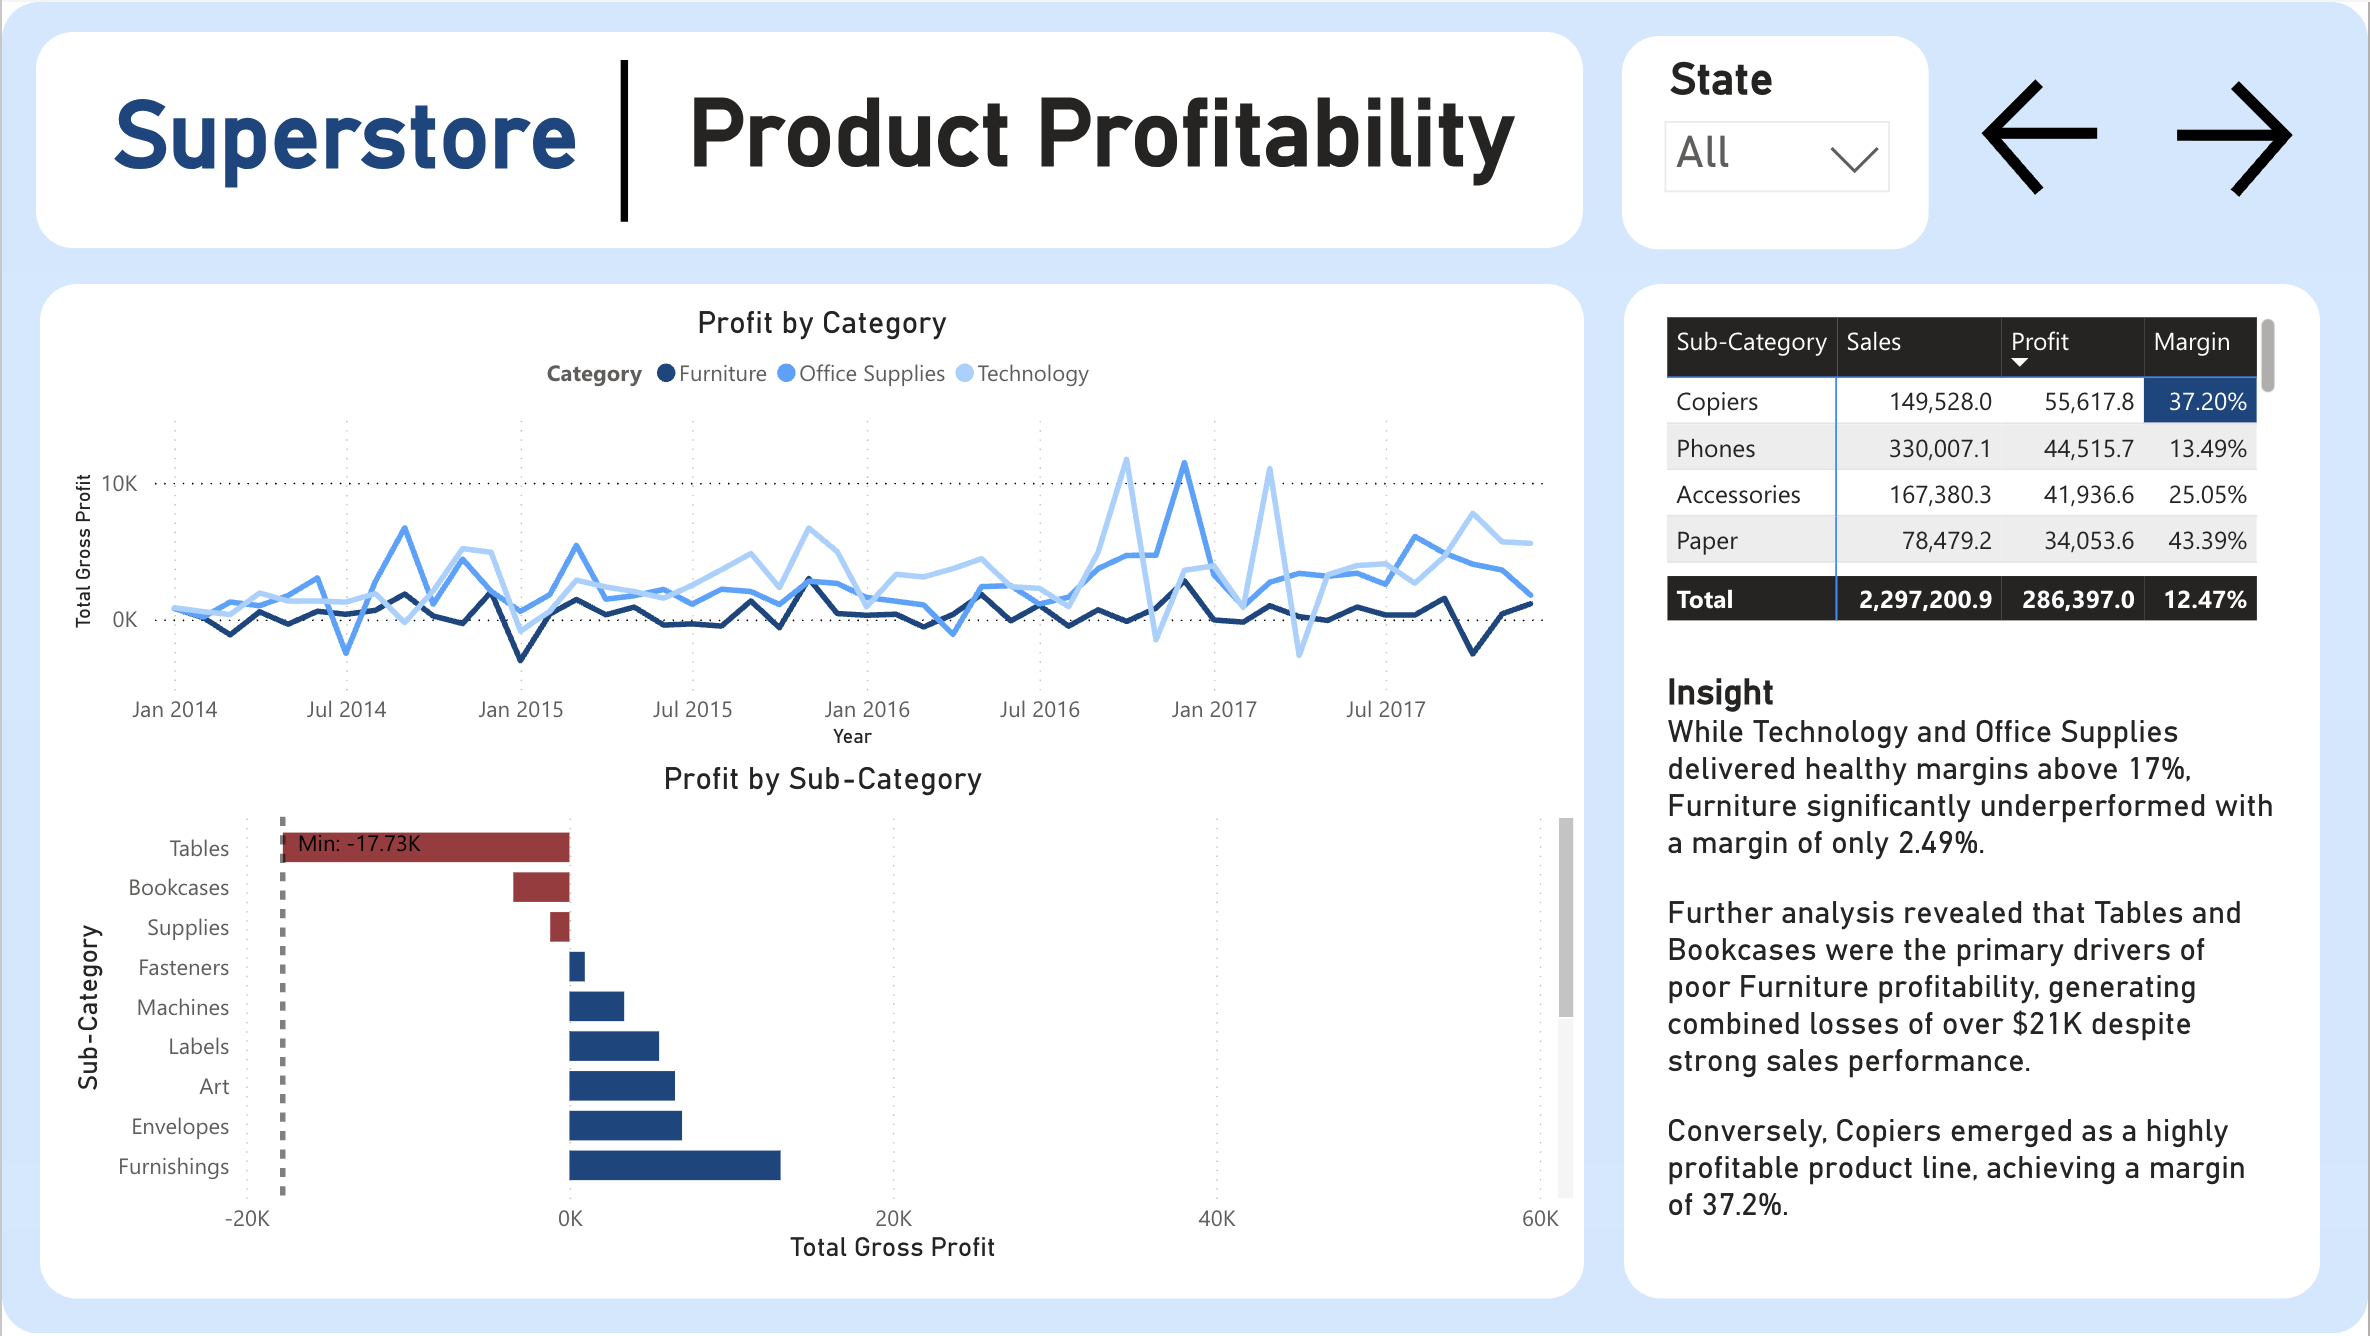

The dashboard page shown, as its layout file describes it:
{"tool":"powerbi","page":{"name":"Product Profitability","canvas":[1280,720],"ordinal":1},"visuals":[{"type":"shape","box":[0,0,1280,720.4],"z":0},{"type":"shape","box":[18.8,16.7,836.9,116.9],"z":1000},{"type":"textbox","box":[36.2,43,299,86.1],"z":2000},{"type":"shape","box":[283.8,31.3,106.4,87.7],"z":3000},{"type":"shape","box":[20,152.2,835.3,548.9],"z":4000},{"type":"actionButton","box":[1169,36.2,83.8,74.8],"z":5000},{"type":"textbox","box":[352.6,42.1,484.8,86.1],"z":6000},{"type":"shape","box":[876.6,17.9,165.9,115.5],"z":7000},{"type":"slicer","fields":{"Values":["Sample - Superstore.State"]},"box":[889.4,26,142.2,98.2],"z":8000},{"type":"lineChart","title":"Profit by Category","fields":{"Category":["Calendar.Date.Variation.Date Hierarchy.Year","Calendar.Date.Variation.Date Hierarchy.Quarter","Calendar.Date.Variation.Date Hierarchy.Month"],"Series":["Sample - Superstore.Category"],"Y":["Sample - Superstore.Total Gorss Profit"]},"box":[33.6,165.9,820.5,242.1],"z":9000},{"type":"clusteredBarChart","title":"Profit by Sub-Category","fields":{"Category":["Sample - Superstore.Sub-Category"],"Y":["Sample - Superstore.Total Gorss Profit"]},"box":[34.1,412.6,821.3,274.4],"z":10000},{"type":"actionButton","box":[1066.9,35.8,82.9,74.8],"z":11000},{"type":"shape","box":[877.4,152.2,376.6,548.9],"z":12000},{"type":"pivotTable","fields":{"Rows":["Sample - Superstore.Sub-Category"],"Values":["Sample - Superstore.Total Gross Revenue","Sample - Superstore.Total Gorss Profit","Sample - Superstore.Profit Margin"]},"box":[895.8,165.3,339.5,174.2],"z":13000},{"type":"textbox","box":[895.8,359.7,339.5,328.4],"z":15000}]}

Visuals, with their boxes in screenshot pixels (x1, y1, x2, y2), scaled from the page's 1280x720 canvas onto the 2370x1336 screenshot:
shape: <bbox>0, 0, 2369, 1335</bbox>
shape: <bbox>35, 31, 1584, 248</bbox>
textbox: <bbox>67, 80, 621, 240</bbox>
shape: <bbox>525, 58, 722, 221</bbox>
shape: <bbox>37, 282, 1584, 1301</bbox>
actionButton: <bbox>2164, 67, 2320, 206</bbox>
textbox: <bbox>653, 78, 1550, 238</bbox>
shape: <bbox>1623, 33, 1930, 248</bbox>
slicer - Sample - Superstore.State: <bbox>1647, 48, 1910, 230</bbox>
"Profit by Category" lineChart: <bbox>62, 308, 1581, 757</bbox>
"Profit by Sub-Category" clusteredBarChart: <bbox>63, 766, 1584, 1275</bbox>
actionButton: <bbox>1975, 66, 2129, 205</bbox>
shape: <bbox>1625, 282, 2322, 1301</bbox>
pivotTable - Sample - Superstore.Sub-Category x Sample - Superstore.Total Gross Revenue: <bbox>1659, 307, 2287, 630</bbox>
textbox: <bbox>1659, 667, 2287, 1277</bbox>
